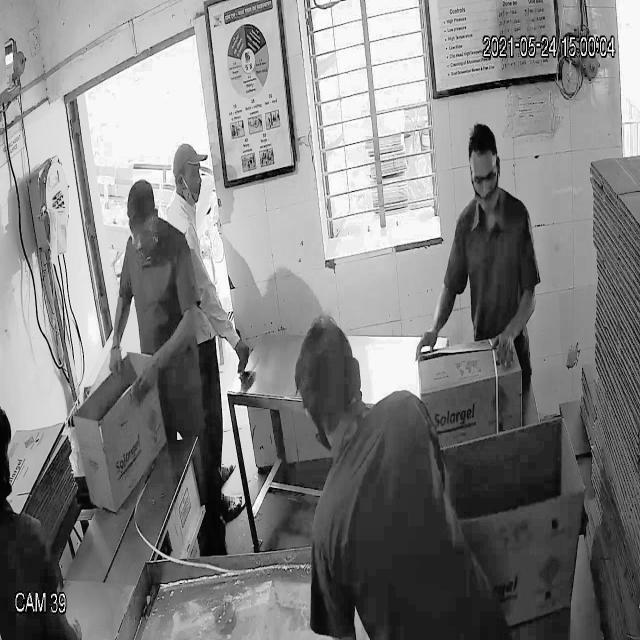glasses: (464, 158, 502, 193)
